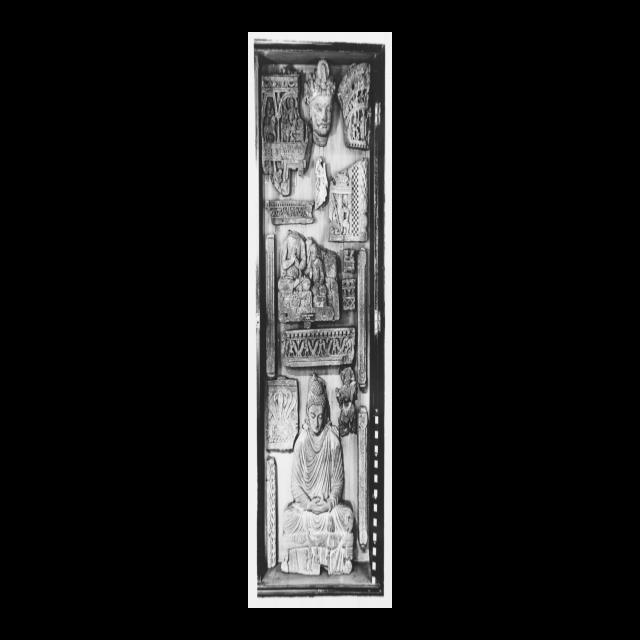buddha-sitting: (281, 376, 354, 576), (278, 231, 312, 314)
